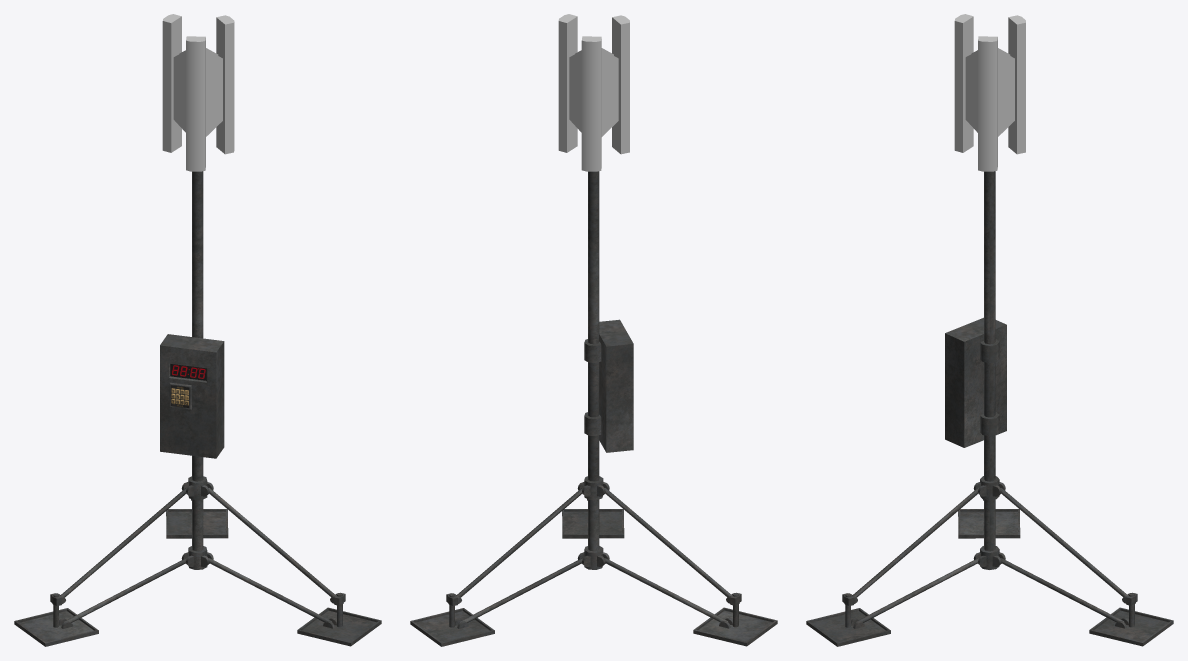
The model's file is RelayAntenna_Visual.fbx.
3 views of the same model, side by side, from view 1: azimuth 30°, elevation 25°; view 2: azimuth 150°, elevation 25°; view 3: azimuth 270°, elevation 25° (orthographic).
Visible parts, largest first — view 1: RelayAntenna_Visual; view 2: RelayAntenna_Visual; view 3: RelayAntenna_Visual.
Part boxes in pixels (x1,y1,x2,y2): RelayAntenna_Visual: [14, 14, 381, 646]; RelayAntenna_Visual: [410, 14, 777, 646]; RelayAntenna_Visual: [806, 14, 1173, 646].
Bounding box in the file's own units: 1.33 × 2.62 × 1.53.
